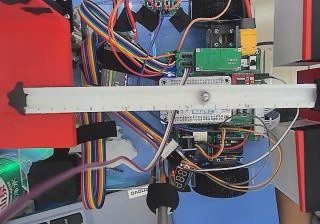ironball: (199, 91, 211, 101)
